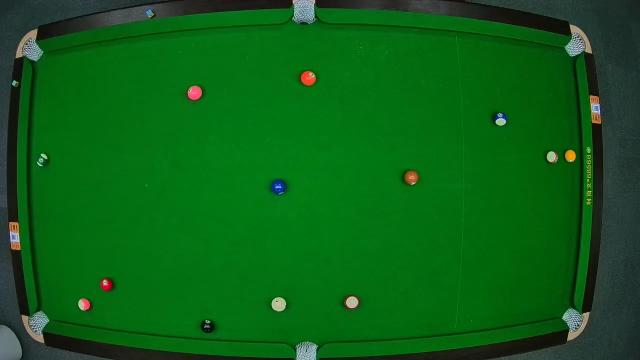bag1: (22, 40, 40, 60)
bag2: (293, 1, 315, 24)
bag3: (563, 34, 585, 56)
bag4: (26, 310, 49, 334)
bag5: (294, 342, 318, 360)
bag6: (562, 310, 584, 330)
ball0: (271, 296, 287, 312)
ball1: (564, 150, 576, 162)
ball10: (493, 112, 507, 126)
ball11: (344, 294, 360, 310)
ball12: (76, 297, 92, 311)
ball14: (34, 152, 50, 168)
ball15: (545, 150, 559, 164)
ball2: (270, 179, 288, 195)
ball3: (100, 276, 114, 292)
ball4: (186, 84, 202, 100)
ball5: (300, 71, 316, 87)
ball7: (404, 169, 420, 185)
ball8: (201, 318, 215, 334)
